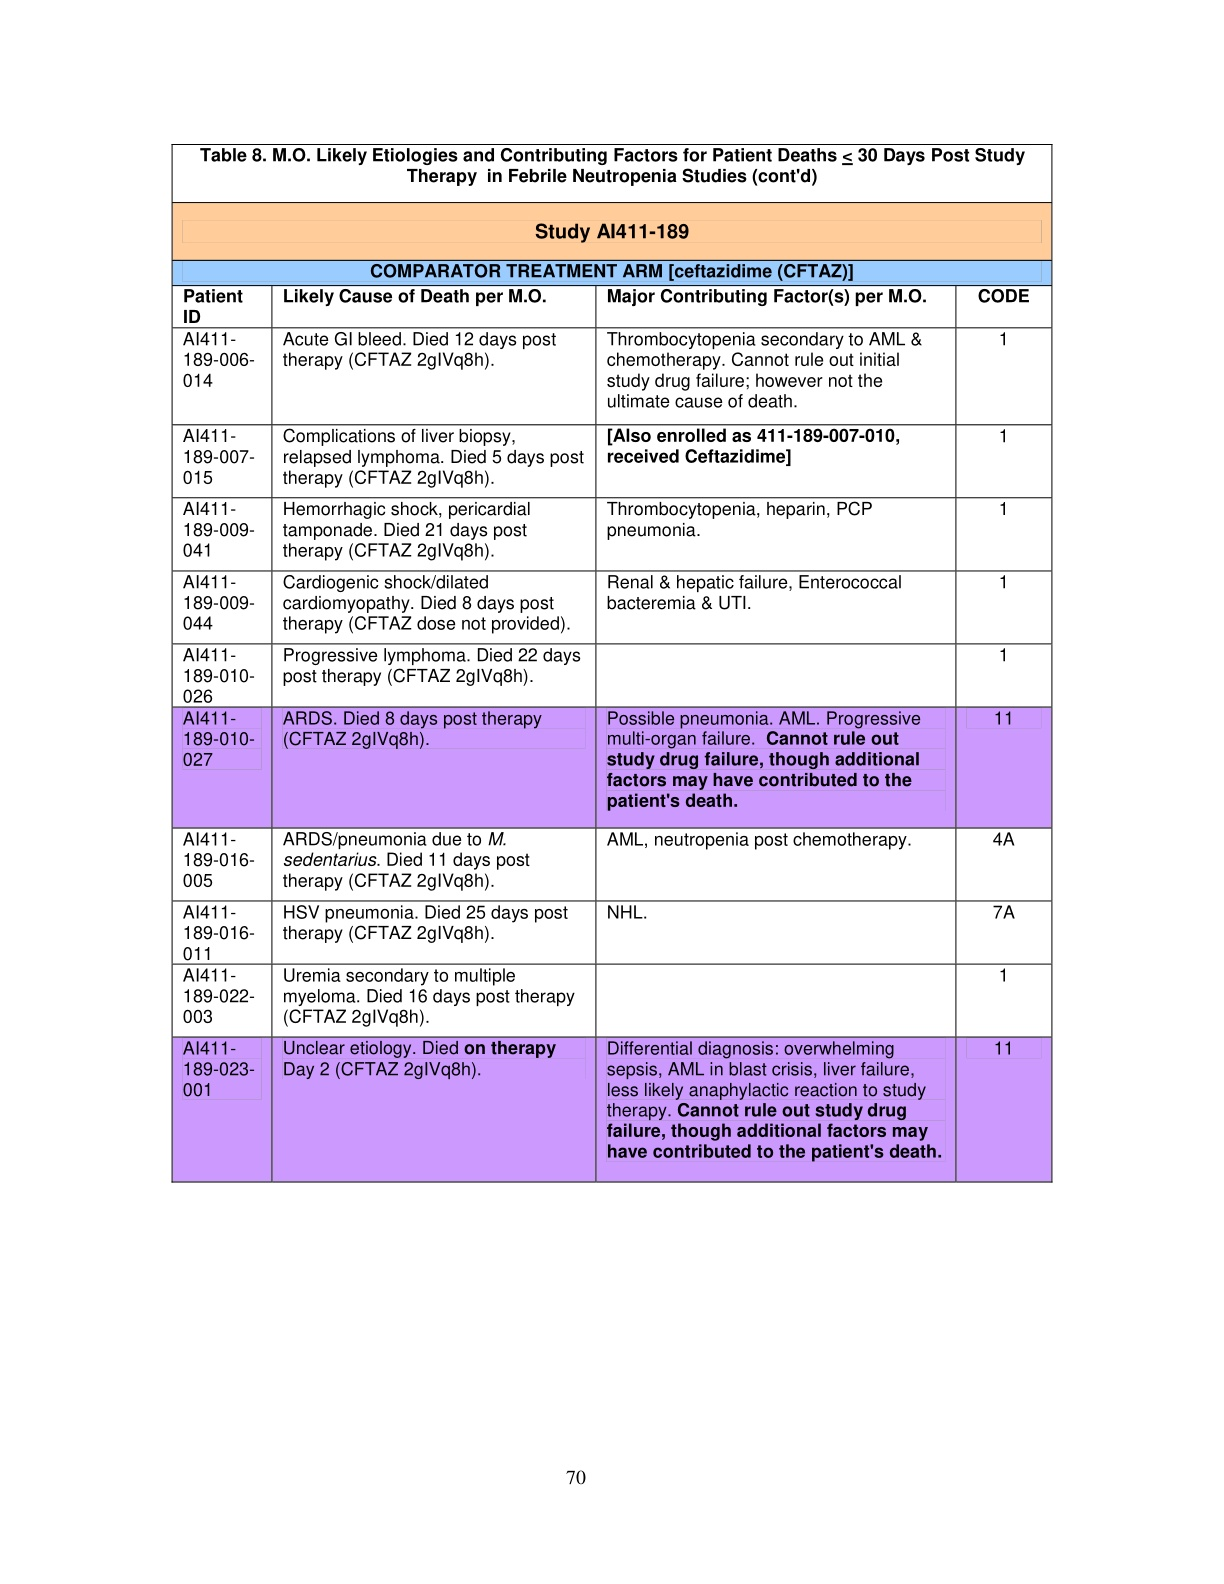merged_cells: (171, 144, 1053, 1183)
